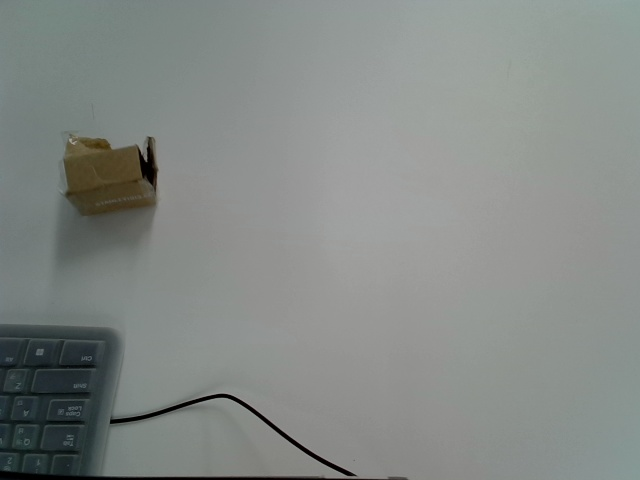defect: (59, 129, 160, 218)
